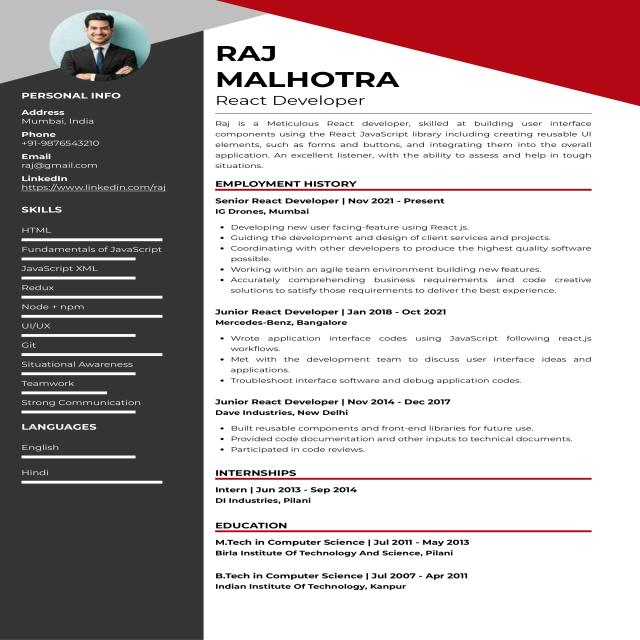contact: (12, 87, 174, 193)
education: (206, 520, 605, 595)
experience: (209, 180, 626, 455), (209, 466, 624, 514)
header: (202, 23, 440, 113)
languages: (13, 421, 176, 495)
skills: (16, 201, 170, 417)
summary: (209, 117, 608, 175)
